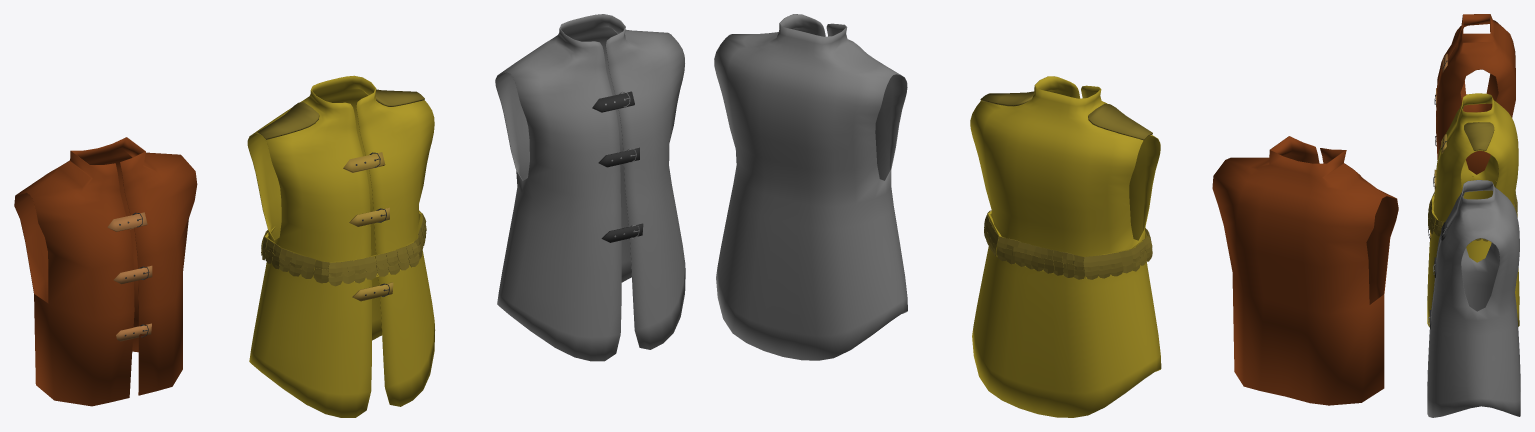
File: zrhlar.fbx
3 views of the same model, side by side, from view 1: azimuth 30°, elevation 25°; view 2: azimuth 150°, elevation 25°; view 3: azimuth 270°, elevation 25° (orthographic). The views are drawn at different scales.
Parts seen in each view (by area): view 1: zh2, zh3, zrh.001; view 2: zh2, zh3, zrh.001; view 3: zh2, zh3, zrh.001.
Boxes of the visible parts, bbox=[...] form: zh2: bbox=[495, 14, 685, 361]; zh3: bbox=[247, 75, 435, 417]; zrh.001: bbox=[14, 137, 197, 406]; zh2: bbox=[714, 14, 907, 360]; zh3: bbox=[970, 76, 1161, 417]; zrh.001: bbox=[1212, 136, 1398, 405]; zh2: bbox=[1427, 180, 1520, 417]; zh3: bbox=[1427, 93, 1519, 326]; zrh.001: bbox=[1434, 14, 1515, 174].
Size of the model in its own units: 262 by 117 by 45.23.
